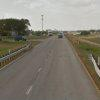Tree: (3, 8, 37, 38)
